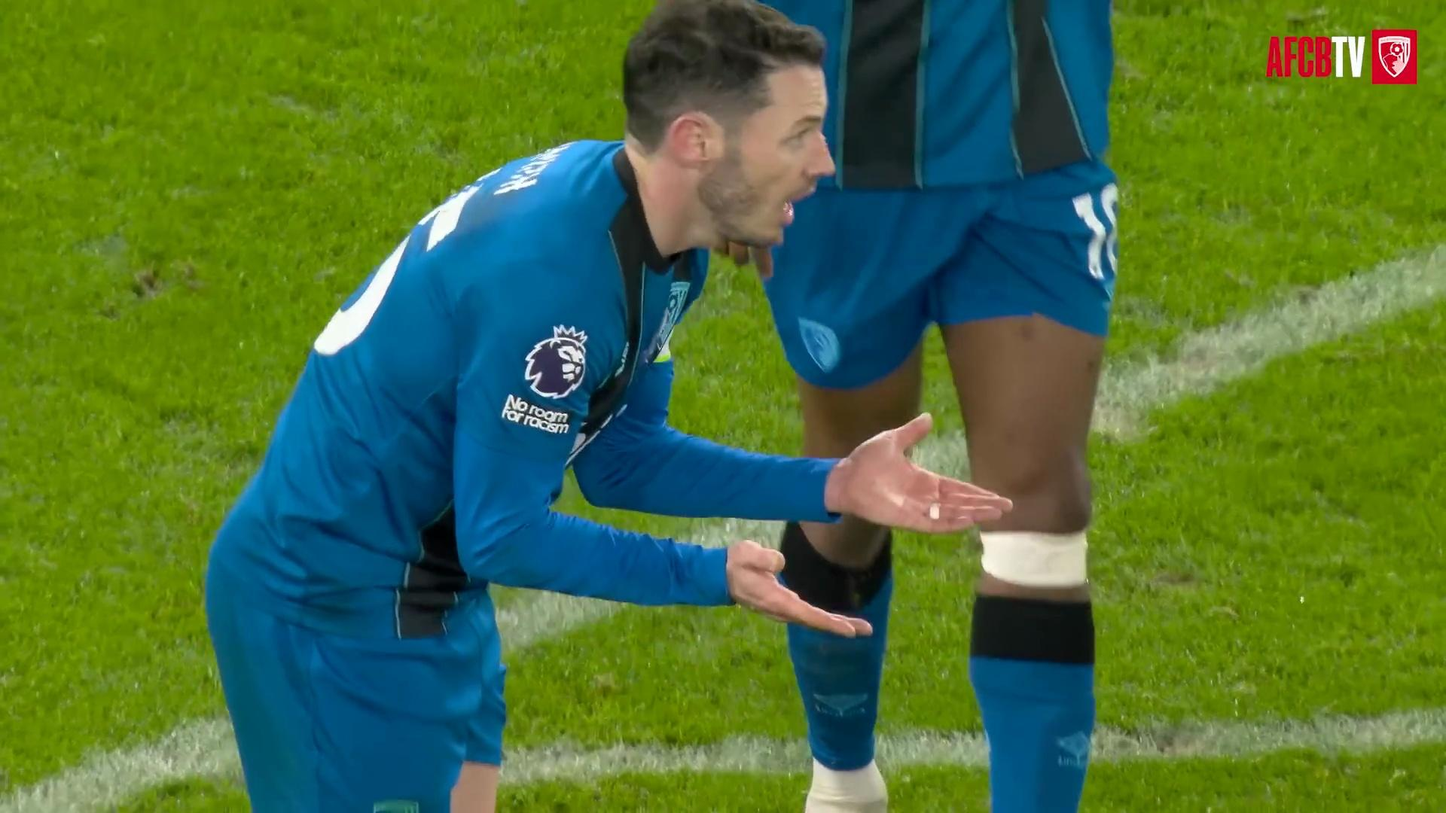player: (206, 0, 1008, 812), (753, 0, 1117, 812)
